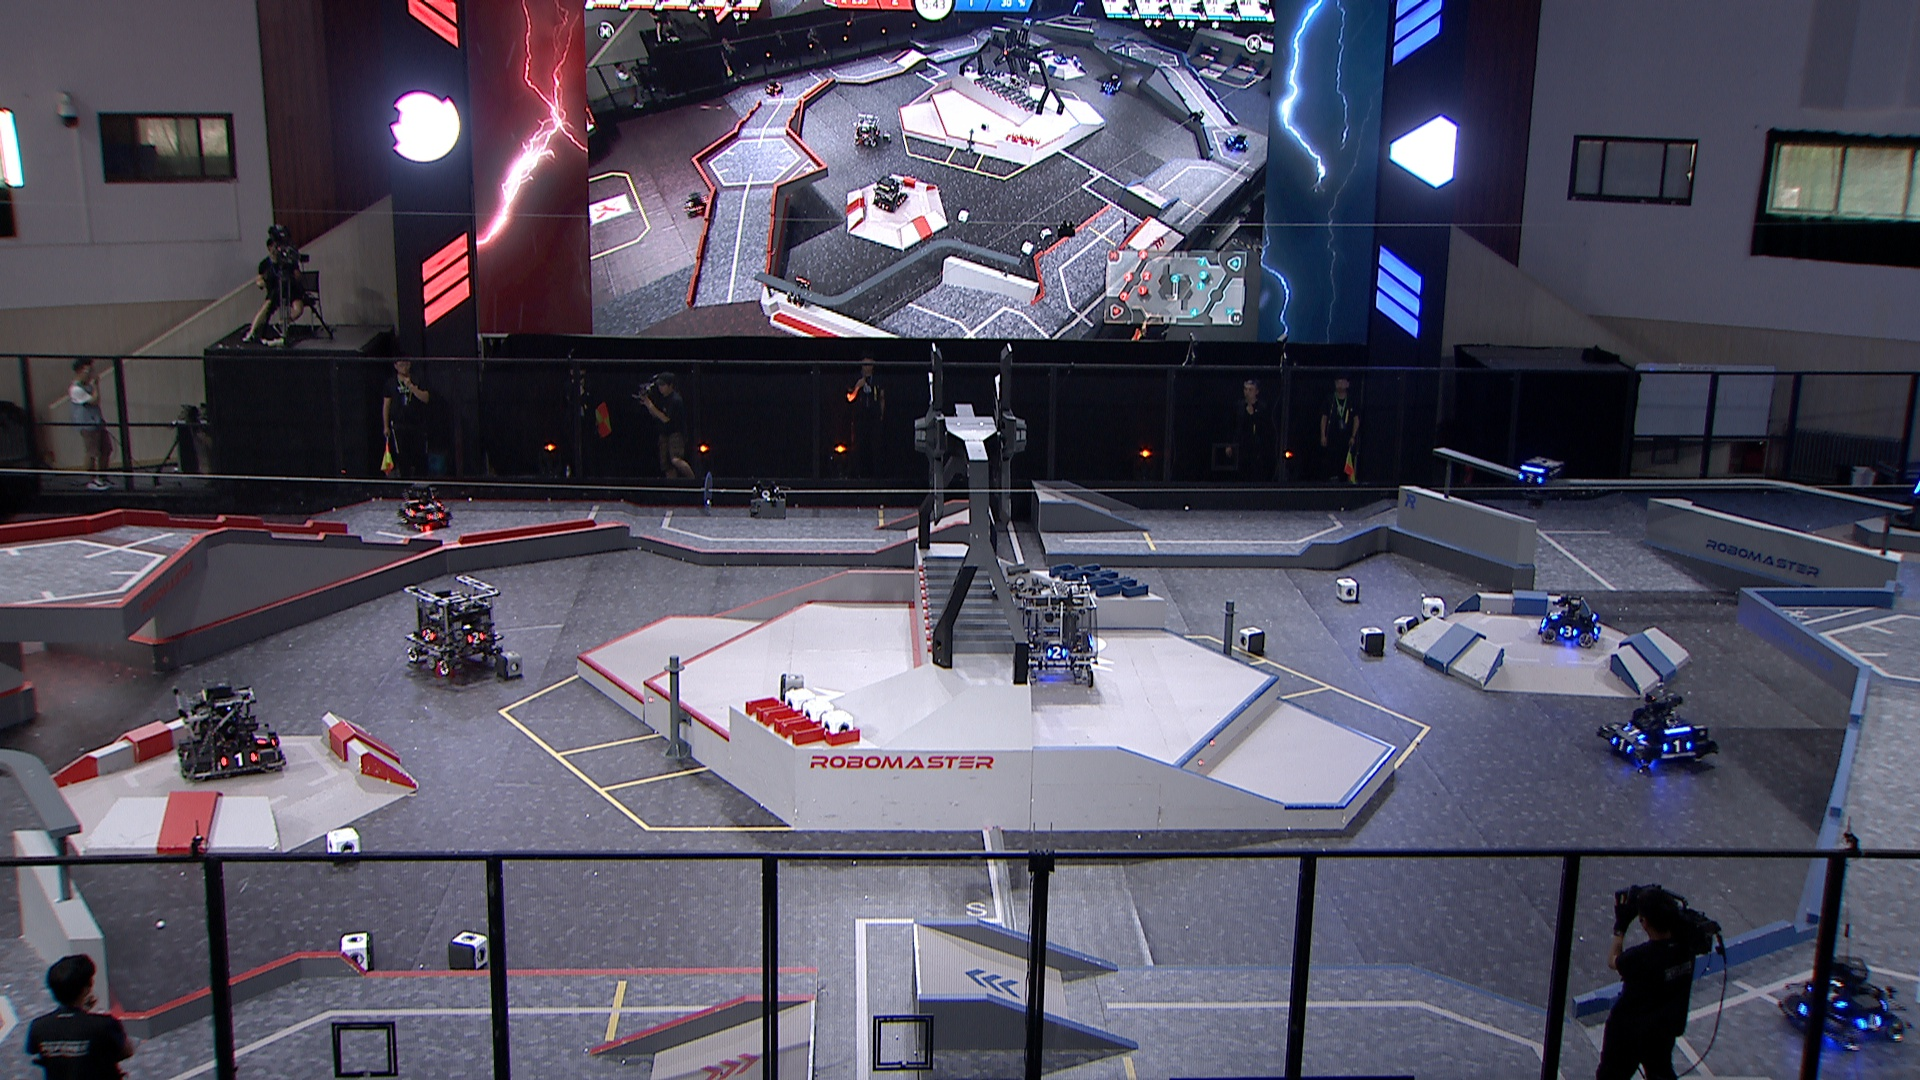armor: (1807, 982, 1849, 1011), (1854, 1011, 1887, 1034), (218, 752, 258, 767), (1660, 737, 1695, 756), (1610, 736, 1636, 756), (1623, 725, 1648, 744), (1044, 644, 1069, 662), (1516, 471, 1545, 487), (1557, 624, 1578, 640), (177, 750, 193, 770), (465, 632, 487, 646), (419, 628, 438, 642), (419, 501, 443, 512), (1548, 608, 1565, 622), (253, 733, 272, 746), (404, 505, 418, 520), (427, 512, 444, 524), (1913, 481, 1920, 495)
base: (1888, 440, 1920, 535)
car: (1776, 951, 1915, 1052), (171, 680, 286, 782), (1598, 687, 1722, 775), (1007, 578, 1102, 688), (405, 574, 506, 676), (1539, 591, 1604, 647), (396, 485, 455, 531)
ignore: (872, 174, 907, 214), (855, 113, 884, 148), (787, 277, 814, 309), (684, 190, 708, 218), (1222, 133, 1253, 153), (1100, 74, 1122, 96), (764, 78, 785, 98), (1069, 1, 1088, 17), (1022, 15, 1035, 30), (1055, 51, 1069, 65)
watcher: (1515, 456, 1567, 509)
